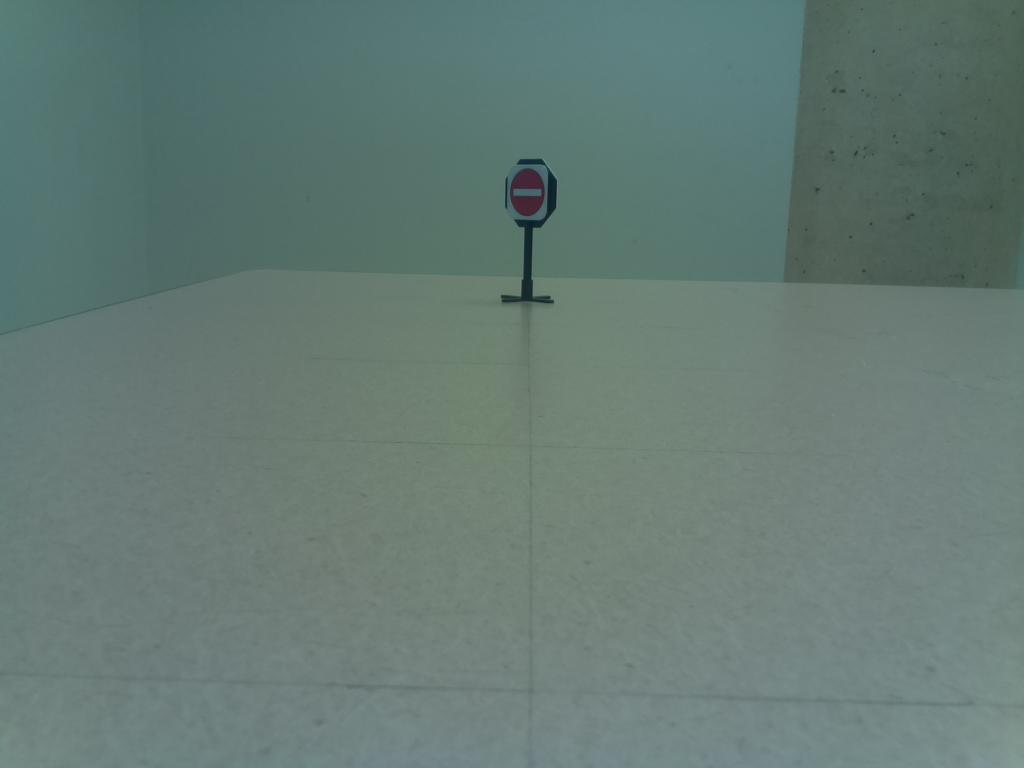sign_noentry: (499, 154, 563, 233)
